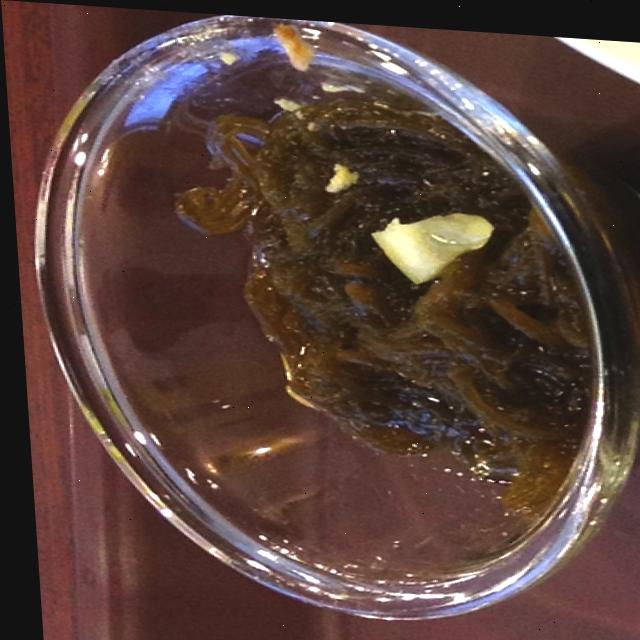蔬菜料理: (8, 0, 637, 629)
